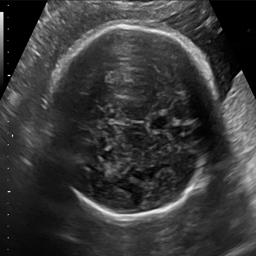normal: (43, 18, 226, 228)
